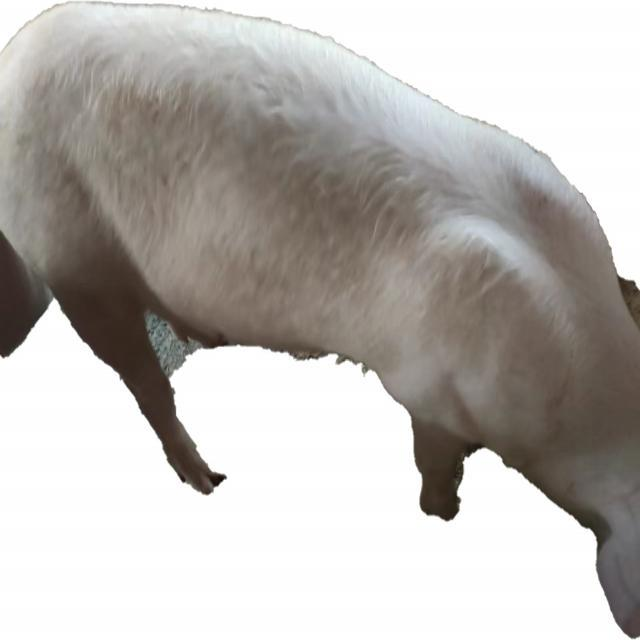pig: (0, 4, 640, 634)
